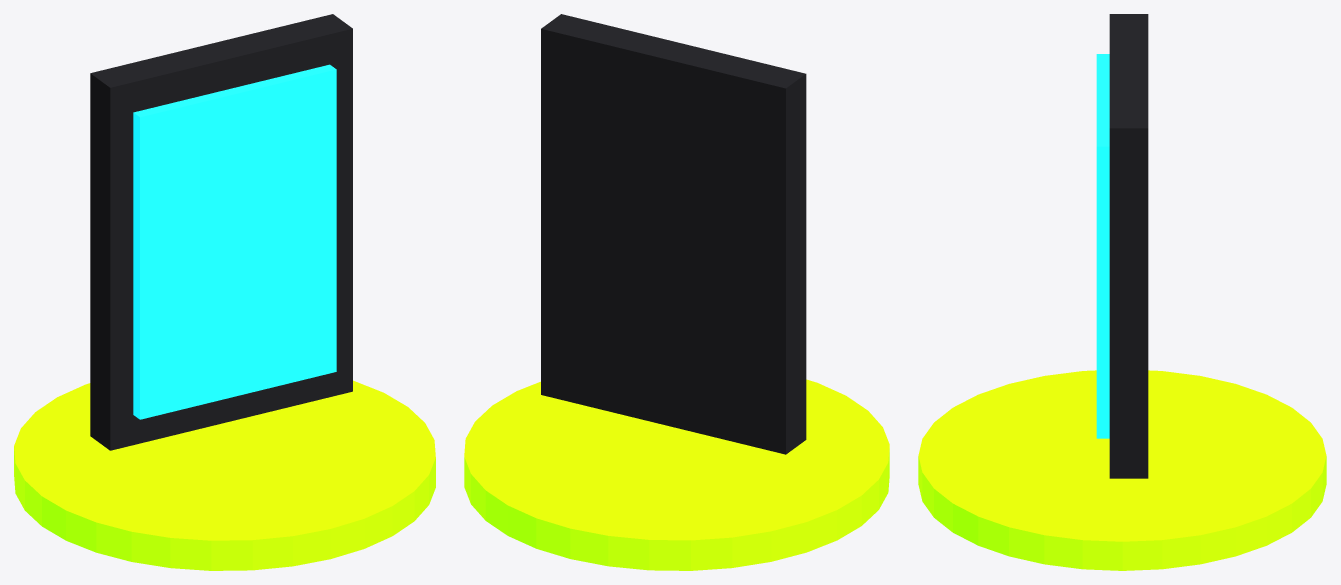
Rendered from tech_tablet.glb.
3 renders of one model, left to right at view 1: azimuth 30°, elevation 25°; view 2: azimuth 150°, elevation 25°; view 3: azimuth 270°, elevation 25°, orthographic. The views are drawn at different scales.
Visible parts, largest first — view 1: 08_08_Popular_Tech_Tablet_part_02, 08_08_Popular_Tech_Tablet_ROOT_base, 08_08_Popular_Tech_Tablet_part_01; view 2: 08_08_Popular_Tech_Tablet_part_01, 08_08_Popular_Tech_Tablet_ROOT_base; view 3: 08_08_Popular_Tech_Tablet_ROOT_base, 08_08_Popular_Tech_Tablet_part_01, 08_08_Popular_Tech_Tablet_part_02.
Part boxes in pixels (x1,y1,x2,y2): 08_08_Popular_Tech_Tablet_part_02: [133, 64, 336, 419]; 08_08_Popular_Tech_Tablet_ROOT_base: [14, 380, 435, 570]; 08_08_Popular_Tech_Tablet_part_01: [90, 14, 352, 450]; 08_08_Popular_Tech_Tablet_part_01: [541, 14, 806, 454]; 08_08_Popular_Tech_Tablet_ROOT_base: [464, 379, 889, 570]; 08_08_Popular_Tech_Tablet_ROOT_base: [918, 370, 1326, 570]; 08_08_Popular_Tech_Tablet_part_01: [1109, 14, 1148, 478]; 08_08_Popular_Tech_Tablet_part_02: [1096, 54, 1109, 438].
Bounding box in the file's own units: 0.76 × 0.85 × 0.76.
